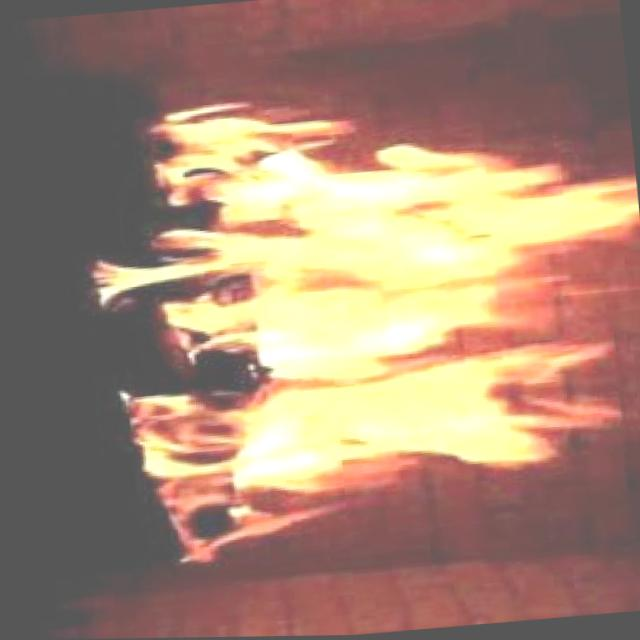Fire: (62, 66, 640, 586)
